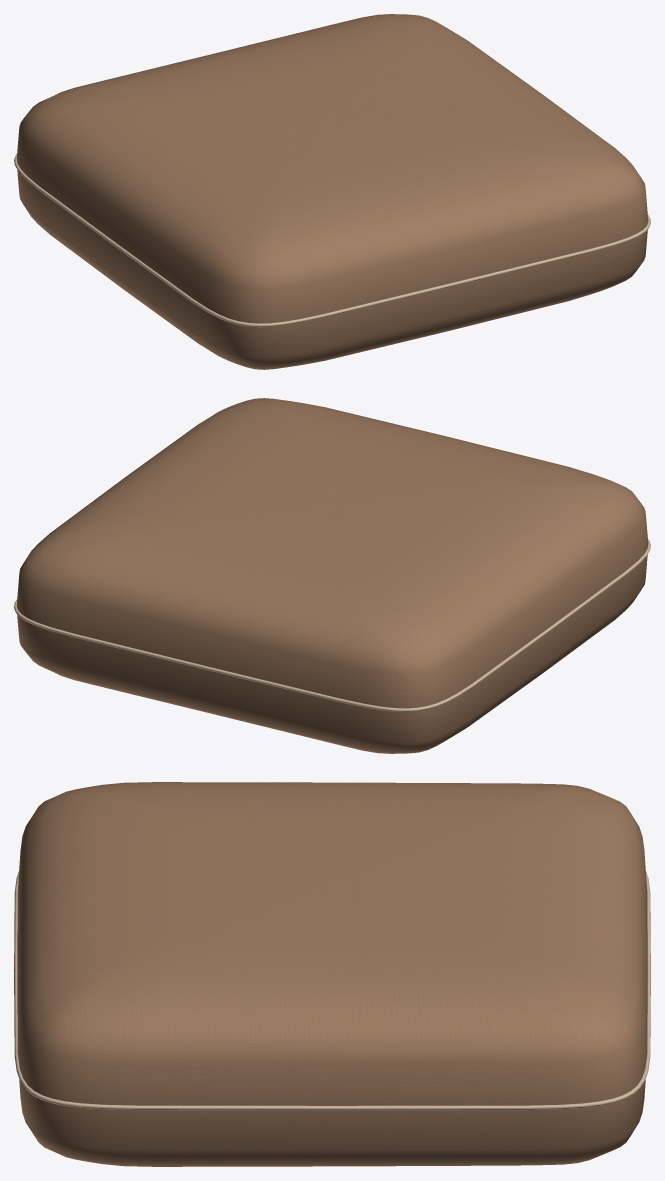
The model's file is traditional.cushion.gltf.
3 renders of one model, top to bottom at view 1: azimuth 30°, elevation 25°; view 2: azimuth 150°, elevation 25°; view 3: azimuth 270°, elevation 25°, orthographic. The views are drawn at different scales.
Parts seen in each view (by area): view 1: traditional.cushion.cushion; view 2: traditional.cushion.cushion; view 3: traditional.cushion.cushion.
Boxes of the visible parts, x1,y1,x2,y2 form: traditional.cushion.cushion: (14, 14, 650, 369); traditional.cushion.cushion: (14, 398, 650, 753); traditional.cushion.cushion: (14, 782, 650, 1166).
Size of the model in its own units: 0.4745 by 0.15 by 0.4745.
2 materials, 1 textured.
